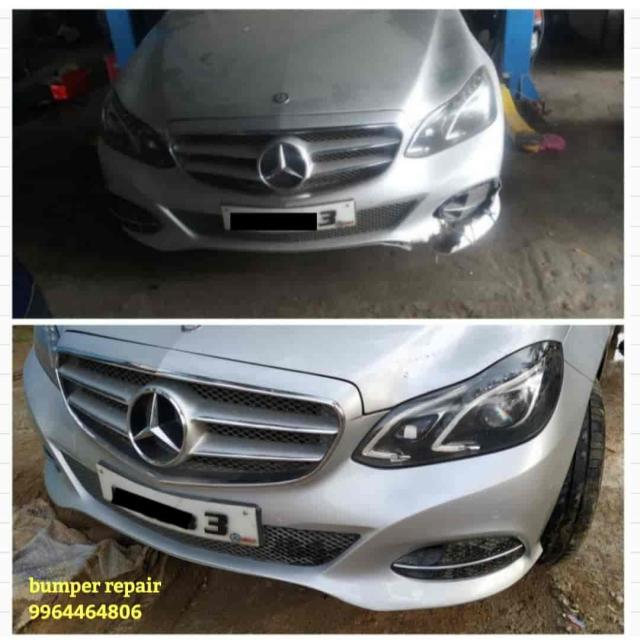tear: (428, 187, 500, 253)
